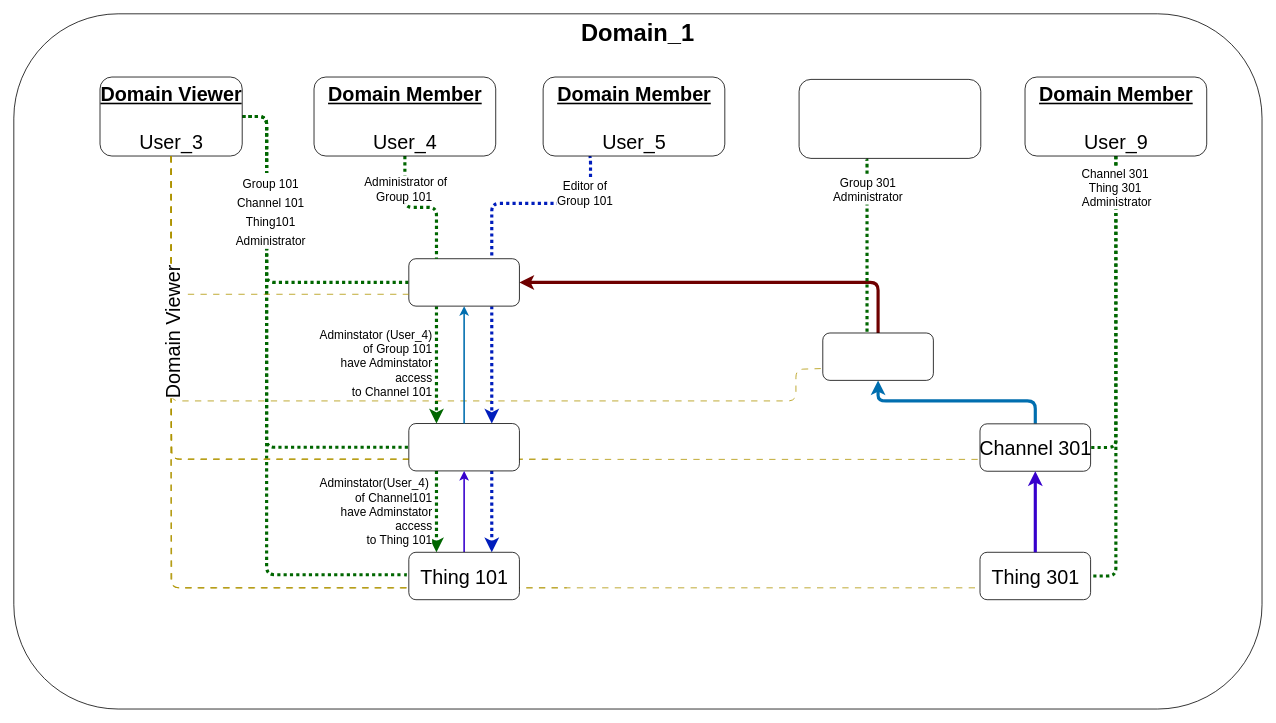
Some shapes in this 1276 by 723 pixel diagram are drawn without their labels. The box of each missing label's shape, as (x1, y1, x2, y2) in pixels:
Channel 101: (408, 423, 519, 471)
Domain Member User_8: (798, 79, 981, 158)
Group 101: (408, 258, 519, 306)
Group 301: (822, 332, 933, 380)
